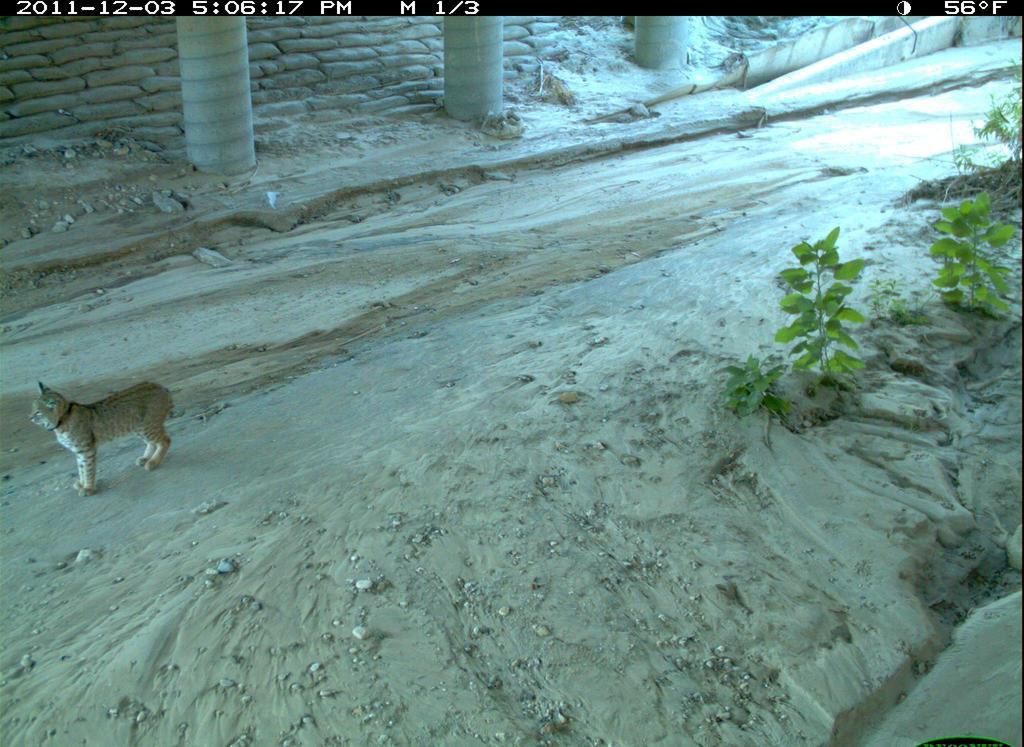bobcat: (29, 374, 187, 498)
